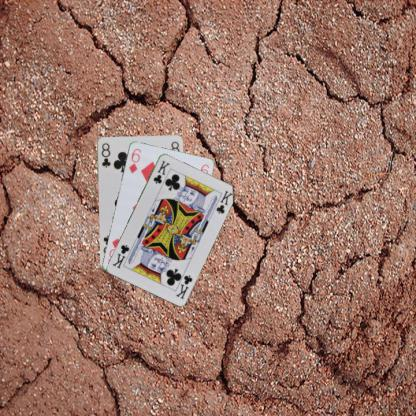6d: (126, 146, 142, 174)
8c: (99, 140, 111, 169)
Kc: (173, 272, 194, 300), (151, 158, 171, 185)
